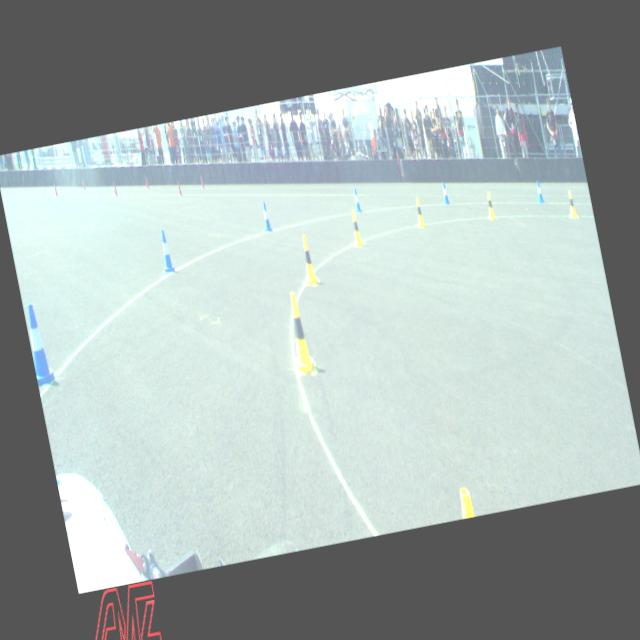blue_cone: (22, 300, 56, 386), (157, 230, 176, 274), (260, 202, 274, 232), (352, 188, 362, 214), (440, 181, 450, 205), (534, 180, 544, 203)
yellow_cone: (282, 290, 316, 374), (297, 233, 318, 284), (348, 208, 364, 248), (412, 196, 426, 228), (564, 190, 578, 218), (484, 191, 496, 220)
